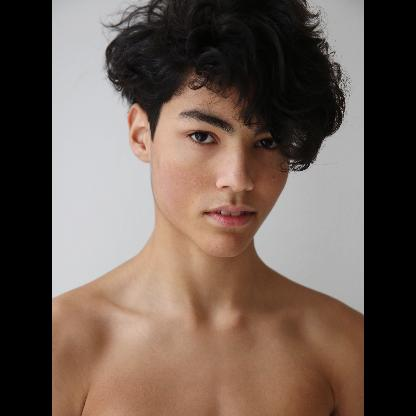Male: (126, 68, 292, 254)
